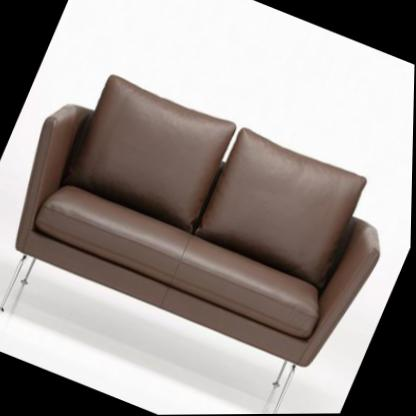Sofa: (0, 55, 410, 416)
